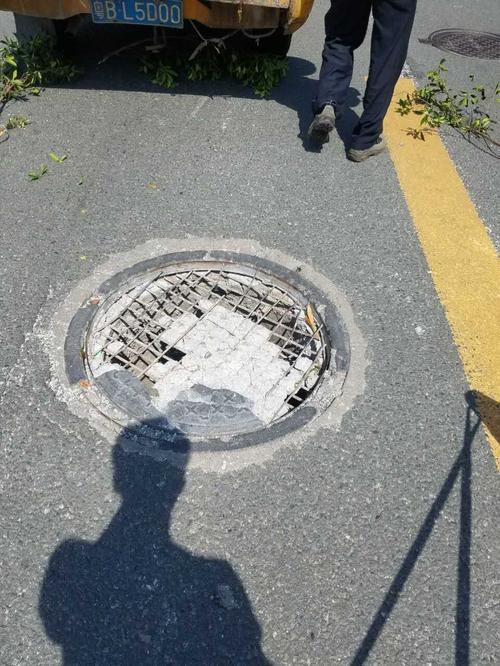broke: (51, 233, 369, 467)
